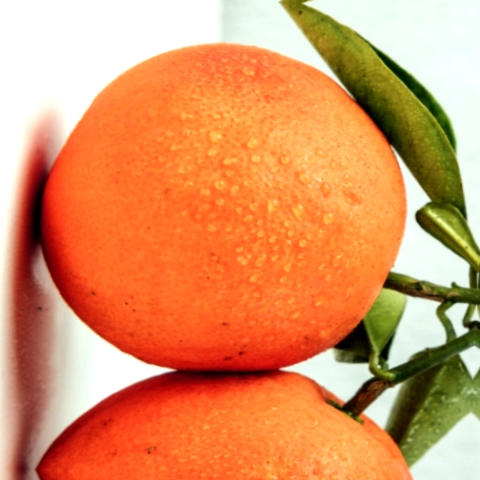orange: (7, 0, 457, 418)
